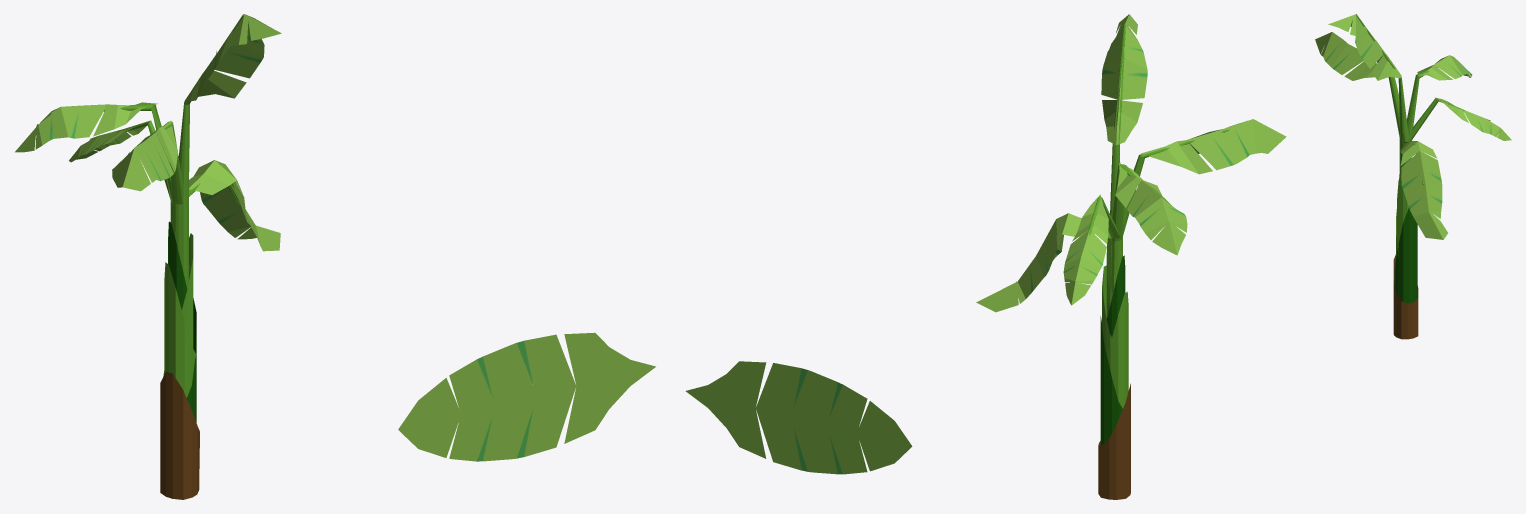
File: Pohon Pisang.fbx
3 views of the same model, side by side, from view 1: azimuth 30°, elevation 25°; view 2: azimuth 150°, elevation 25°; view 3: azimuth 270°, elevation 25° (orthographic). The views are drawn at different scales.
Parts seen in each view (by area): view 1: Plane, Plane.001, Cube.006, Cube.005; view 2: Plane.001, Plane, Cube.006, Cube.005; view 3: Plane.001, Cube.006, Cube.005.
Boxes of the visible parts, box(x1,y1,x2,y2) form: Plane: box(398, 332, 655, 461); Plane.001: box(15, 14, 281, 251); Cube.006: box(160, 177, 199, 499); Cube.005: box(104, 14, 243, 275); Plane.001: box(976, 14, 1286, 312); Plane: box(685, 361, 912, 474); Cube.006: box(1098, 245, 1130, 499); Cube.005: box(1056, 25, 1229, 302); Plane.001: box(1315, 14, 1511, 239); Cube.006: box(1393, 129, 1418, 339); Cube.005: box(1356, 14, 1465, 184).
Bounding box in the file's own units: 1163 × 1011 × 494.
